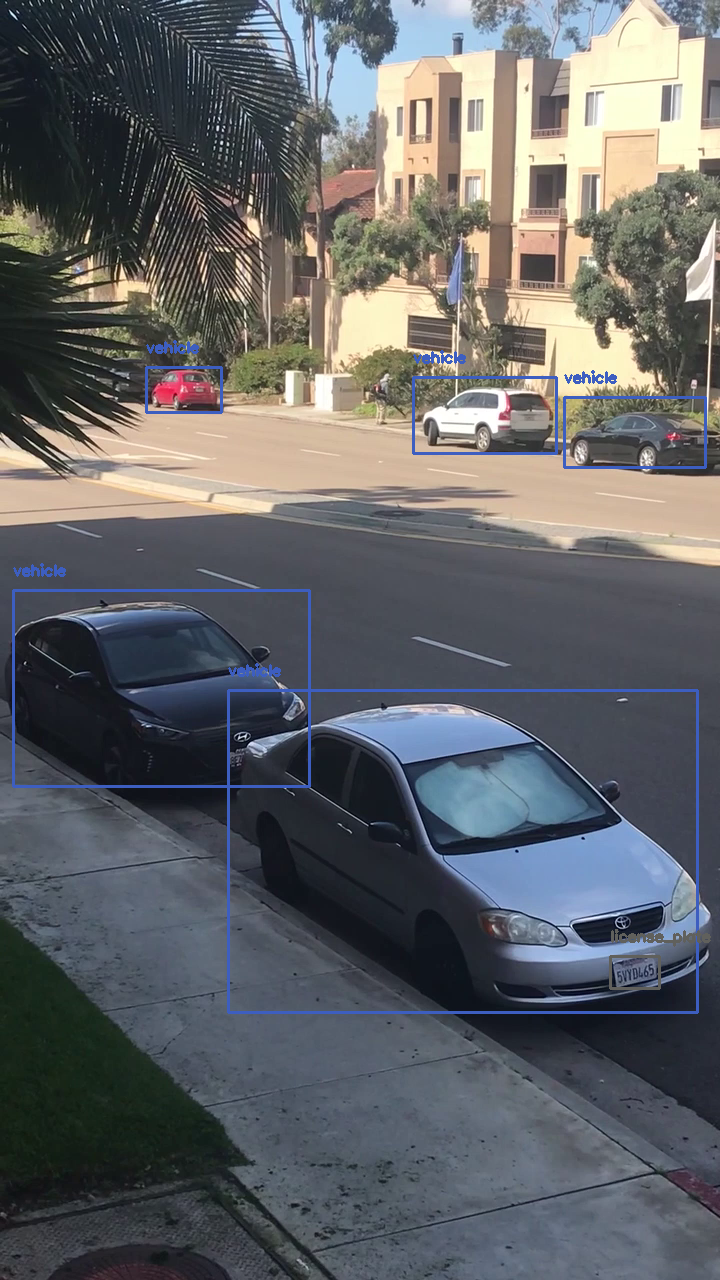license_plate: (610, 956, 659, 988)
vehicle: (228, 690, 697, 1012), (13, 590, 309, 786), (413, 377, 556, 453), (564, 397, 705, 467), (146, 367, 221, 412)
